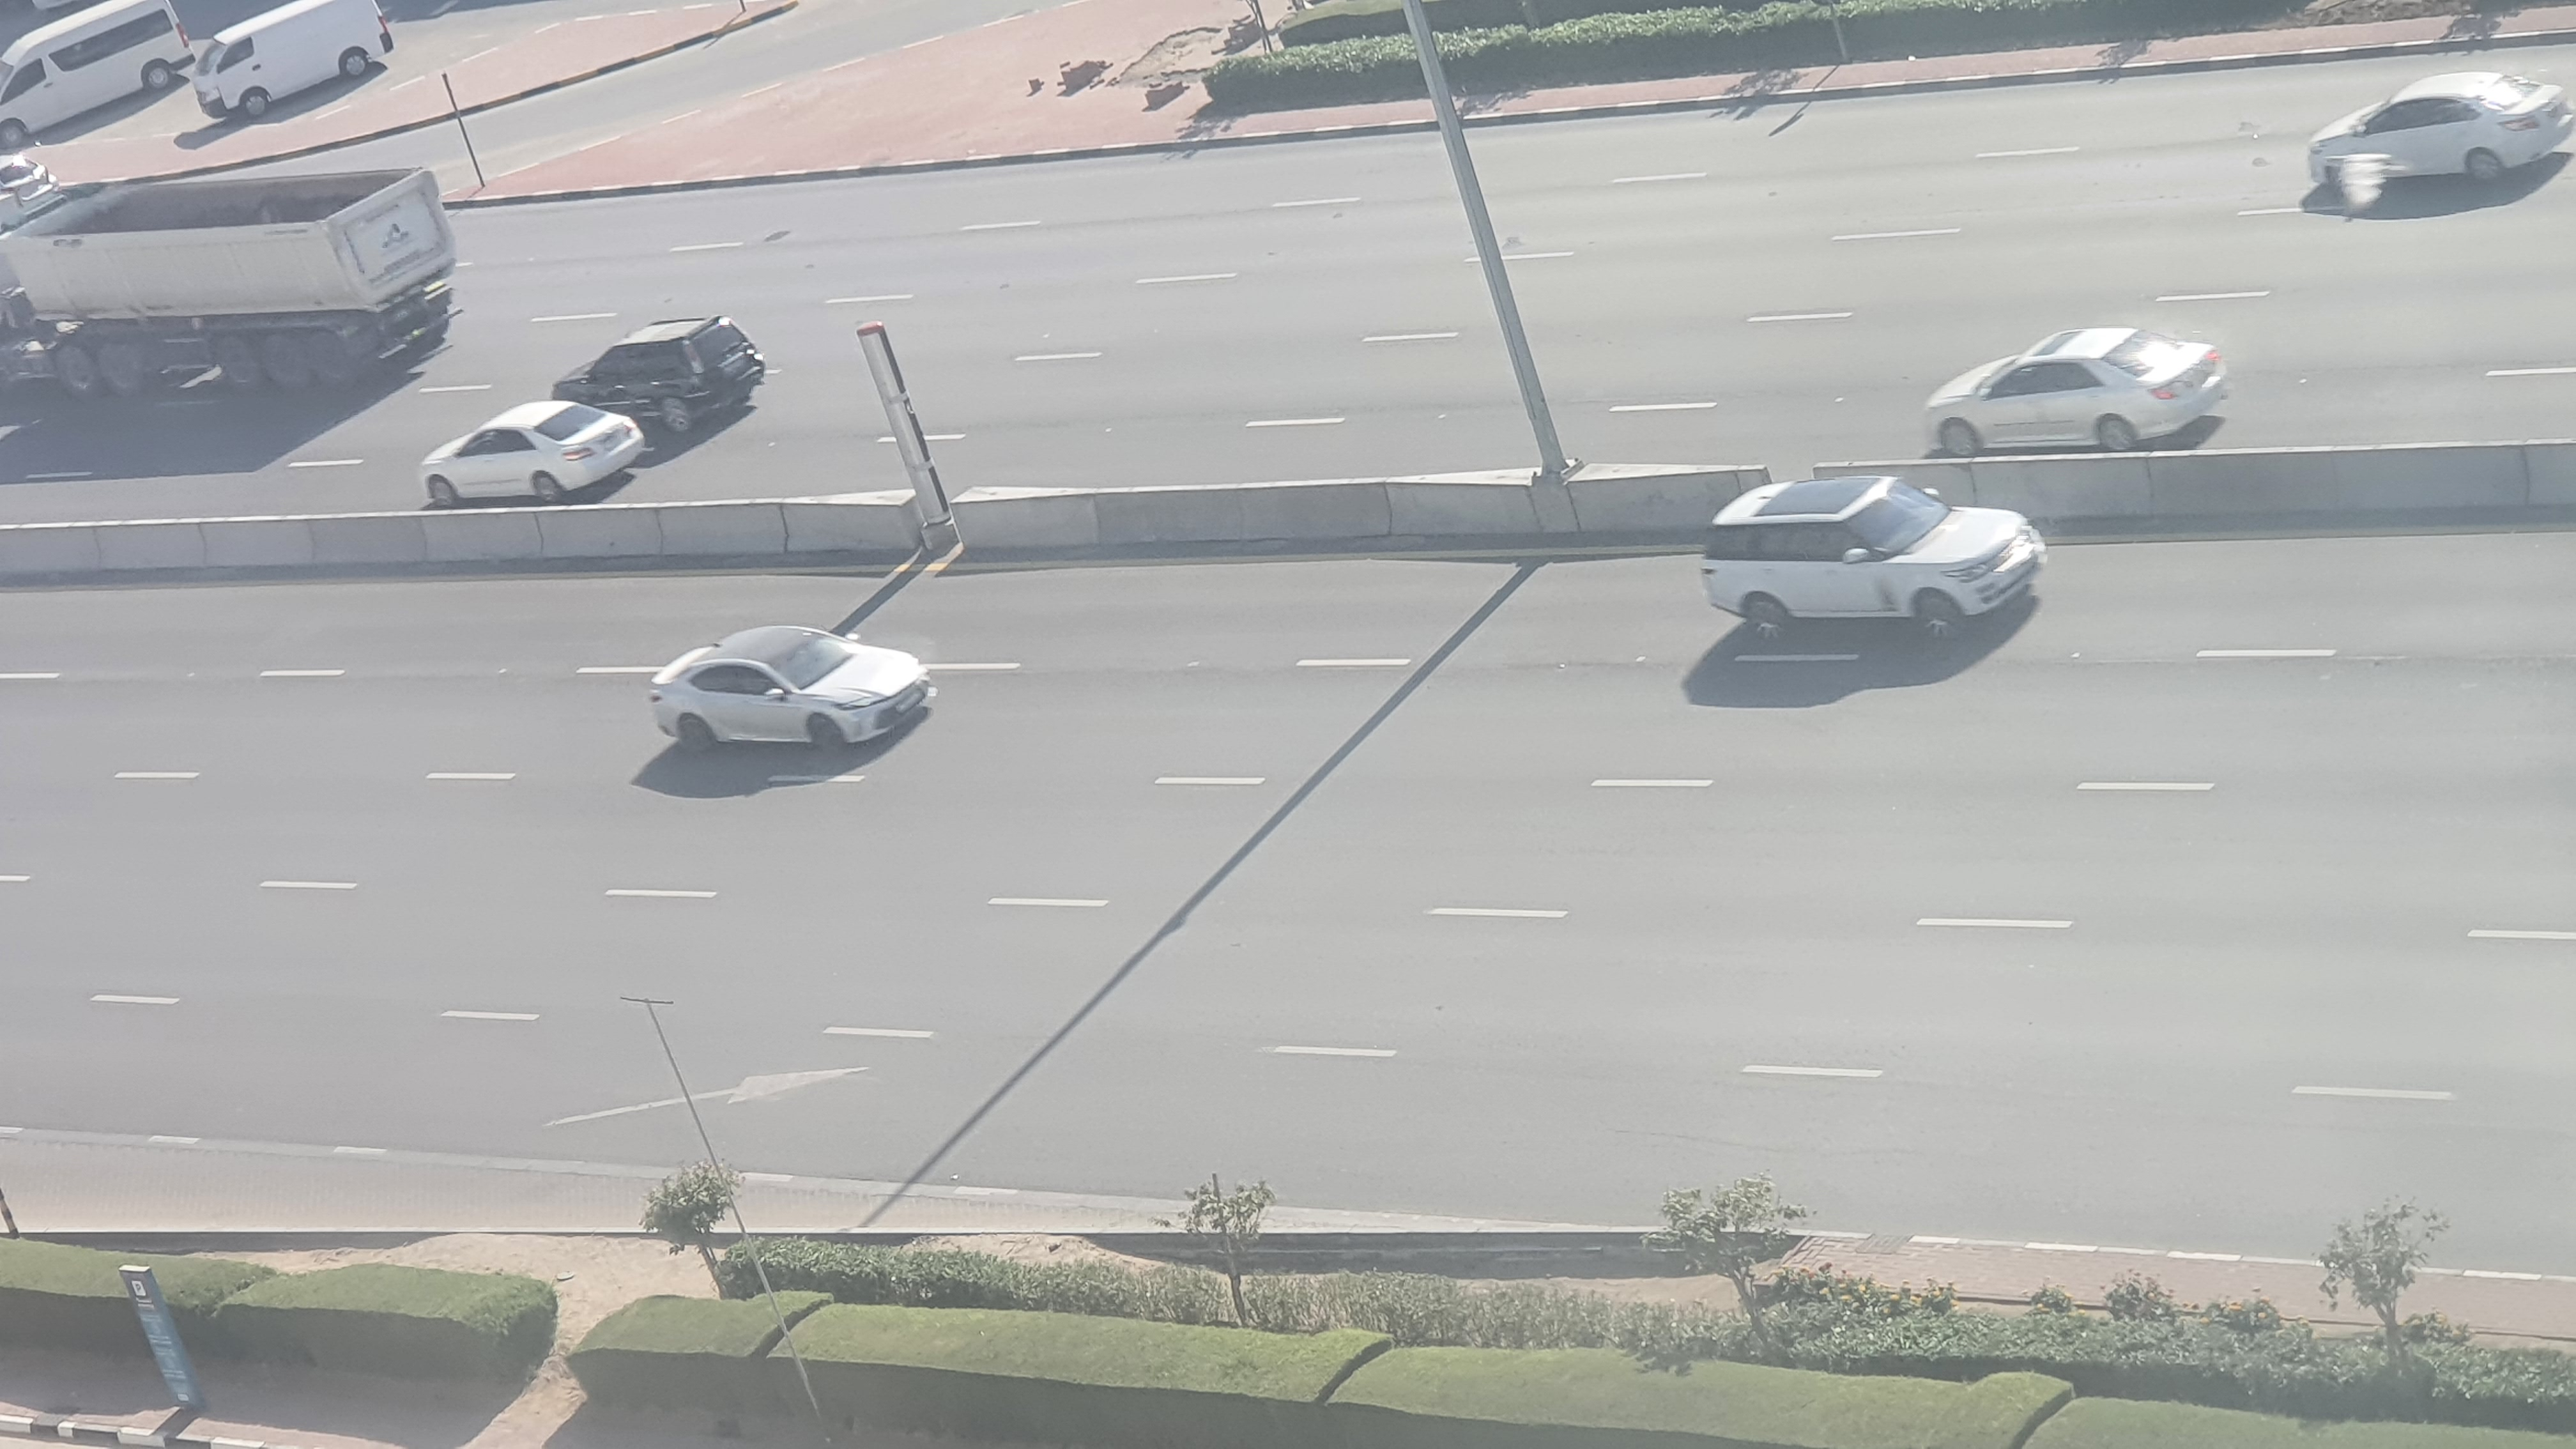Sunroof: (1700, 467, 2054, 642), (639, 628, 938, 759)
